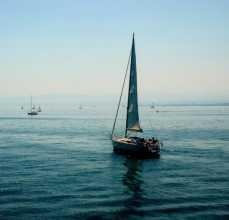fanchuan: (104, 31, 174, 153)
